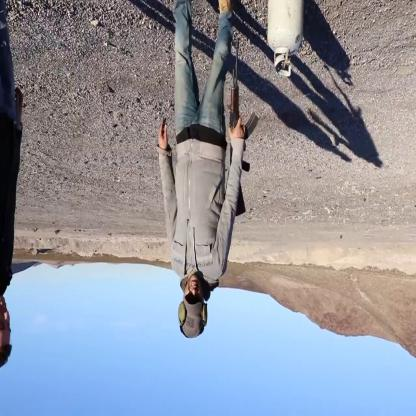long weapon: (226, 30, 256, 222)
